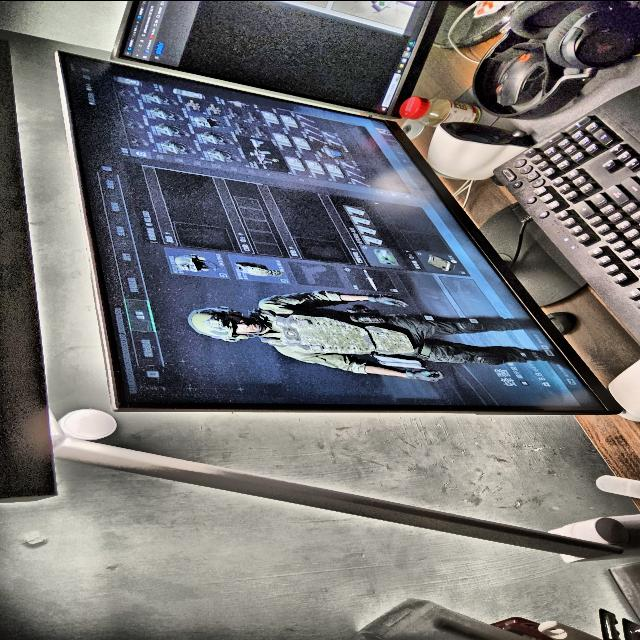Keyboard: (493, 86, 640, 339)
MOUSE: (496, 46, 544, 105)
Screen: (56, 51, 619, 414), (113, 0, 451, 117)
